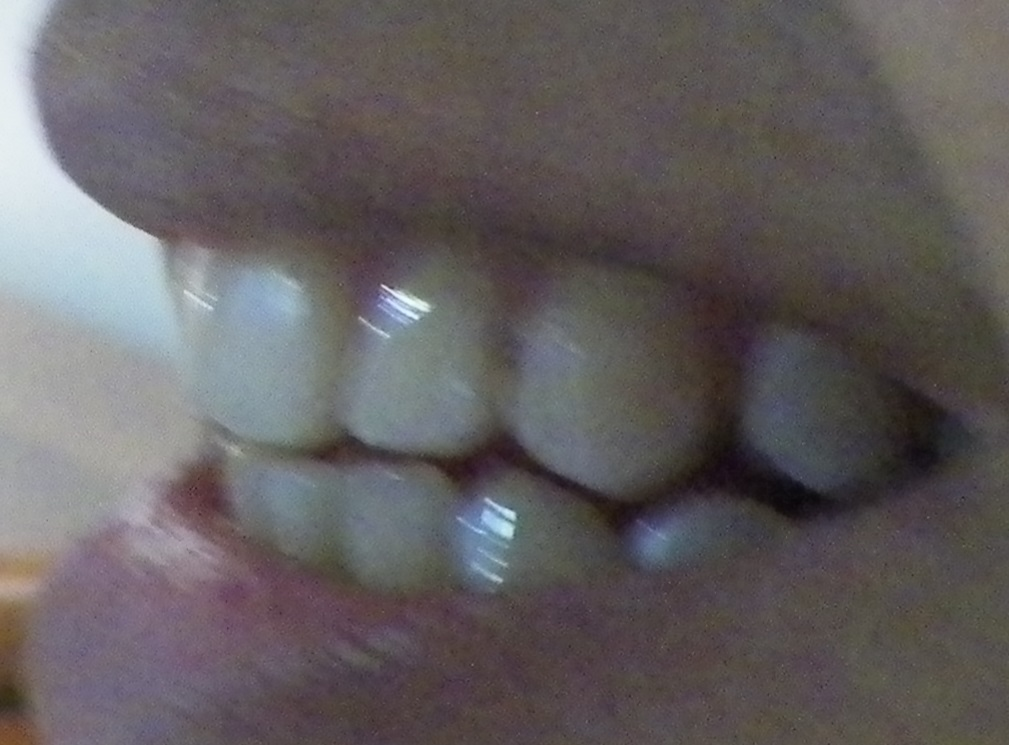boca: (160, 243, 899, 581)
